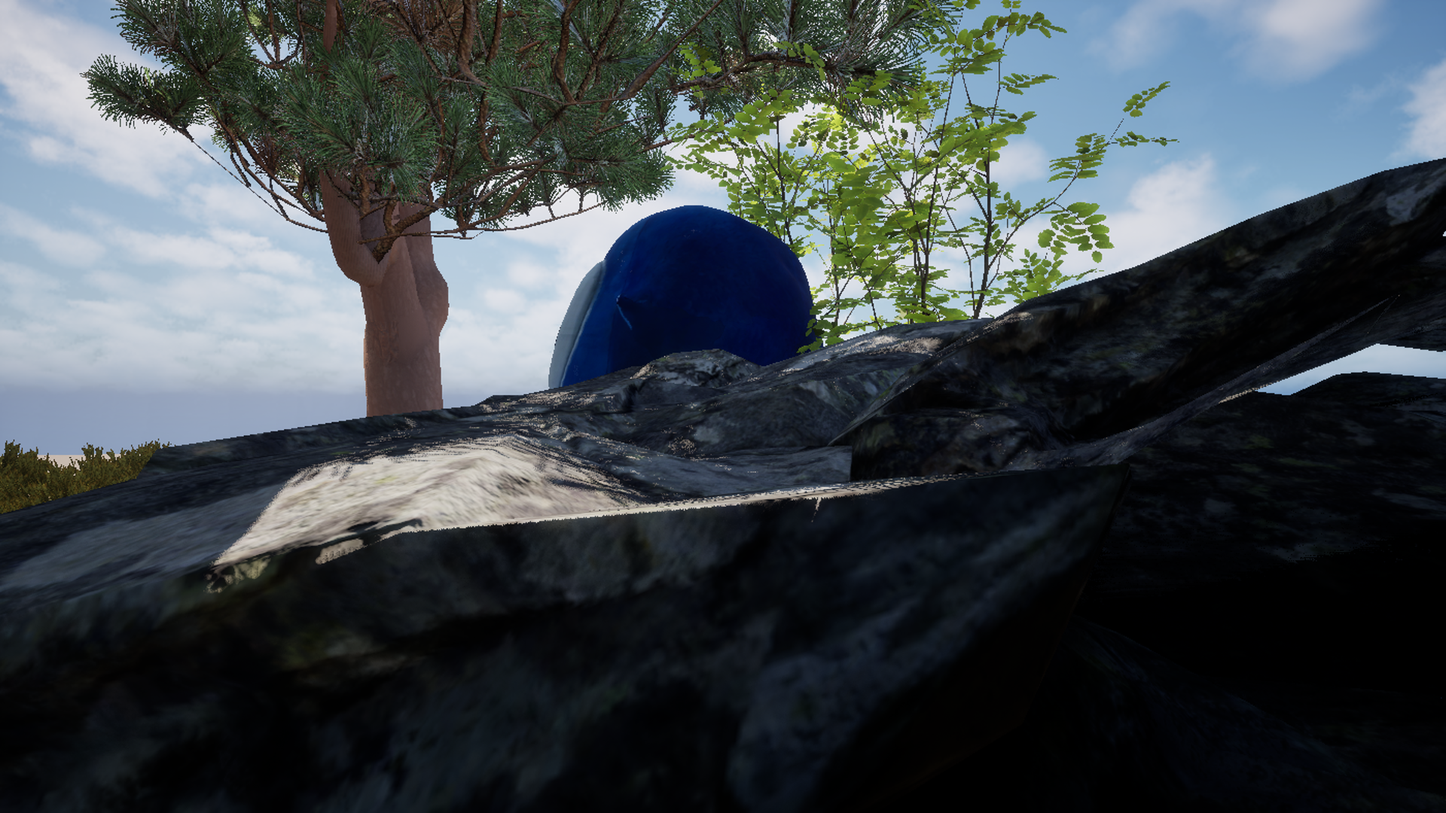Piplup: (419, 11, 1174, 802)
